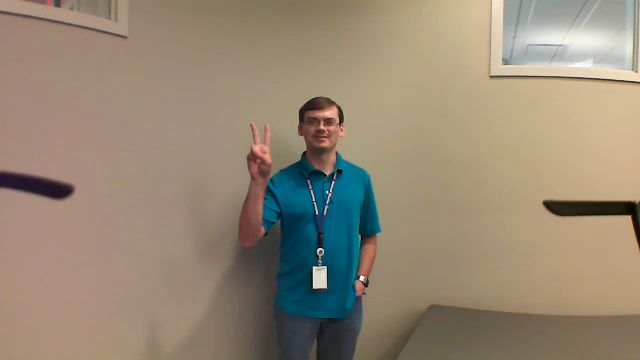peace: (242, 114, 280, 186)
